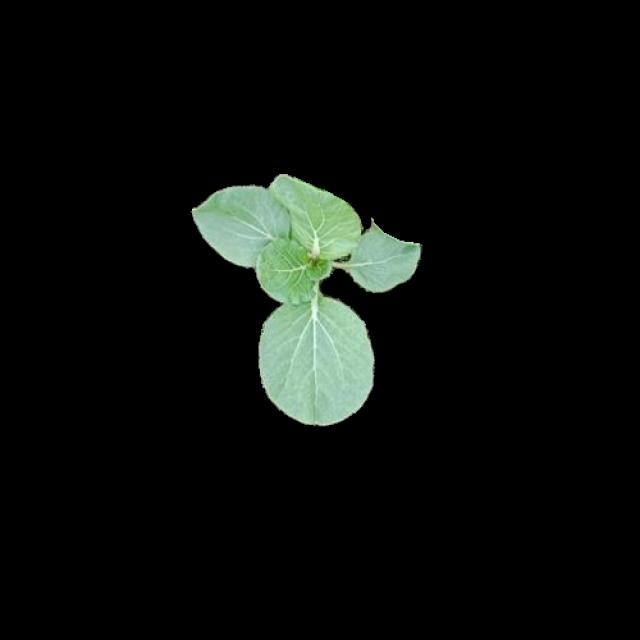healthy: (191, 171, 420, 420)
not-mature: (194, 174, 422, 422)
